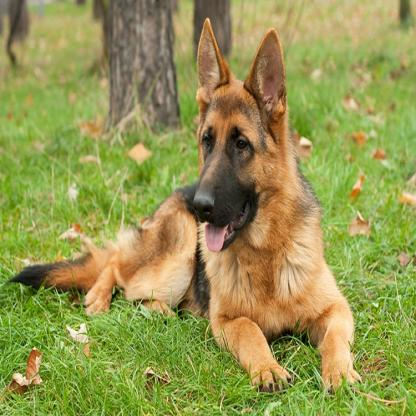german shepherd: (16, 18, 364, 381)
